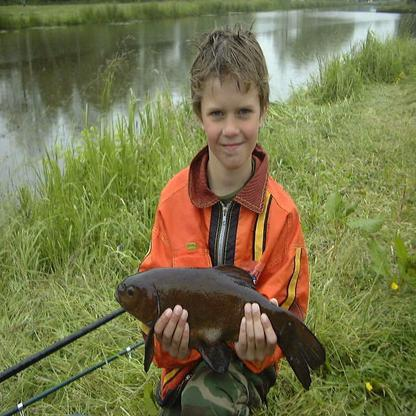fish: (115, 263, 328, 393)
human_face: (192, 35, 270, 169)
